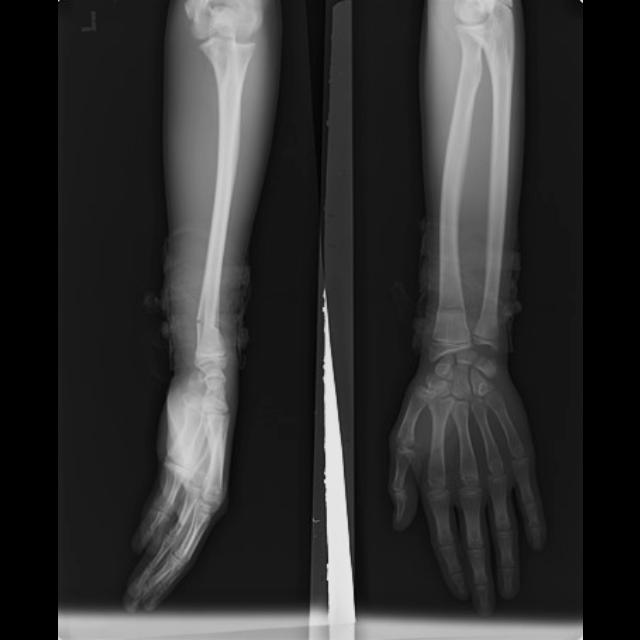fractured: (192, 308, 222, 334), (431, 301, 469, 317)
